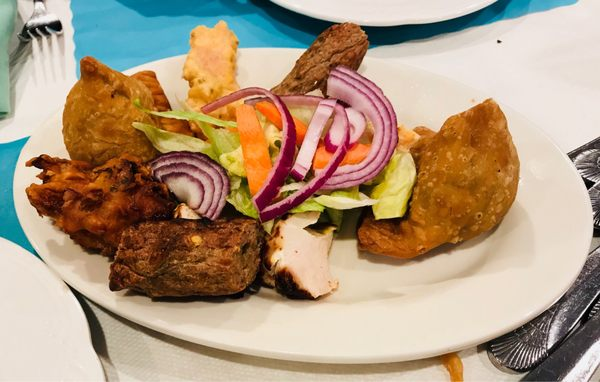burger: (485, 132, 600, 374), (567, 135, 600, 242)
